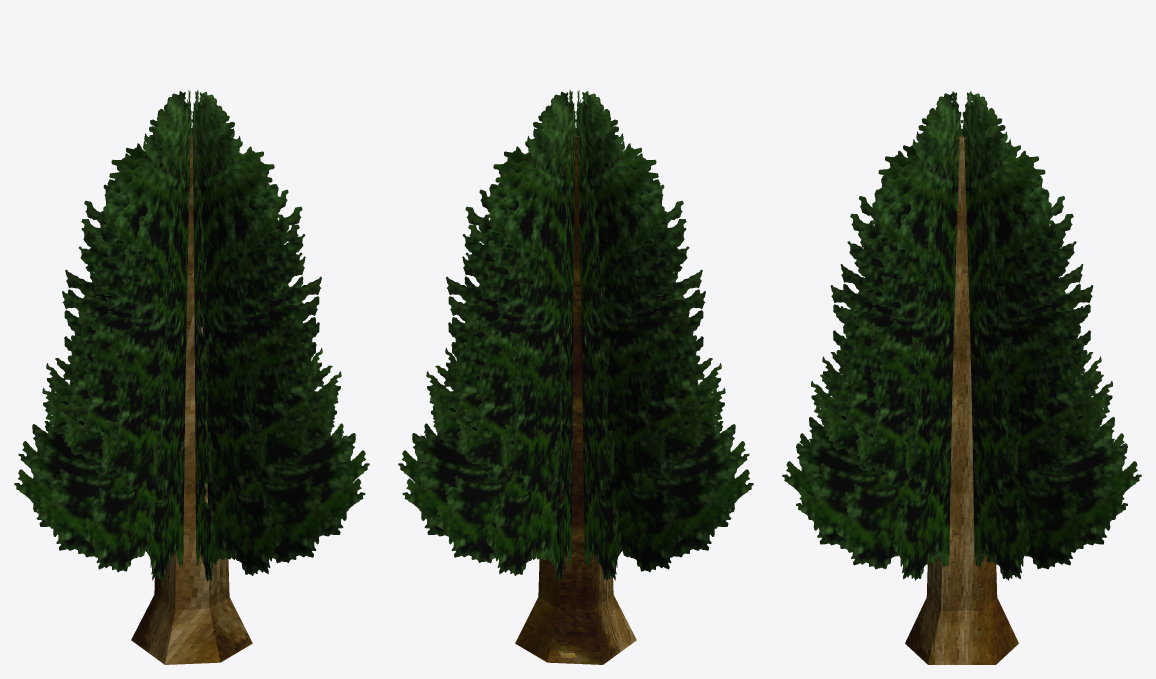
Rendered from Tree.fbx.
3 renders of one model, left to right at view 1: azimuth 30°, elevation 25°; view 2: azimuth 150°, elevation 25°; view 3: azimuth 270°, elevation 25°, orthographic.
Visible parts, largest first — view 1: Tree; view 2: Tree; view 3: Tree.
Part boxes in pixels (x1,y1,x2,y2): Tree: (14, 90, 369, 664); Tree: (398, 90, 753, 664); Tree: (782, 91, 1141, 664).
Bounding box in the file's own units: 423 × 720 × 423.
2 materials, 2 textured.
